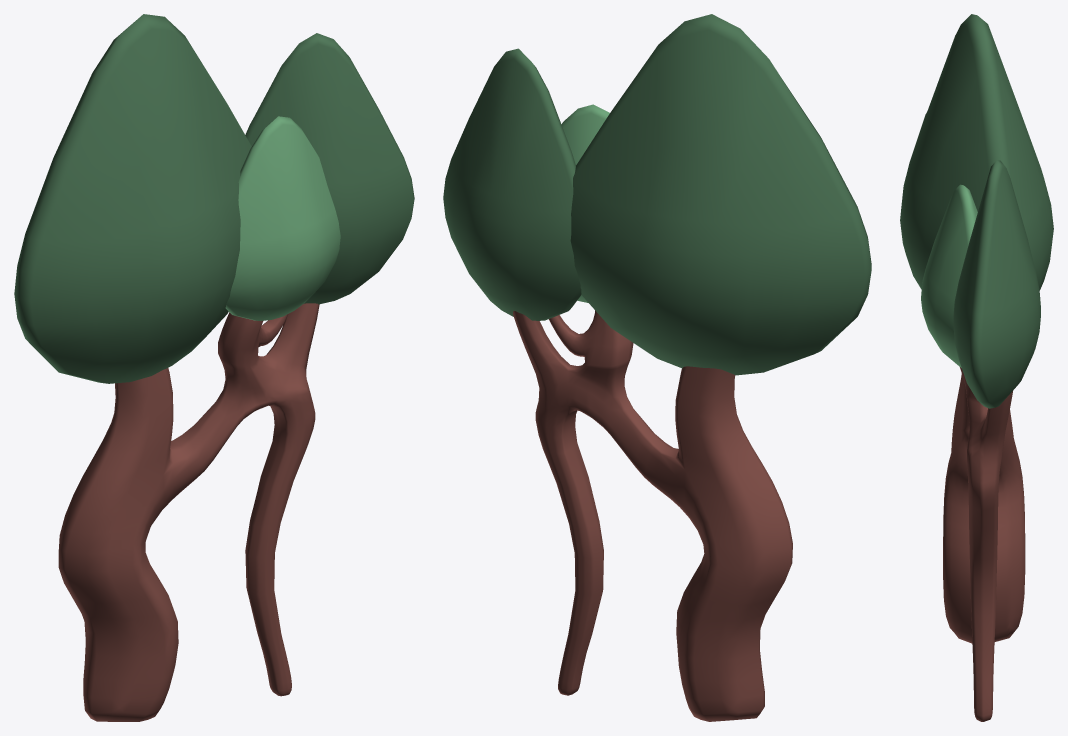
File: Small_Tree_1.fbx
3 views of the same model, side by side, from view 1: azimuth 30°, elevation 25°; view 2: azimuth 150°, elevation 25°; view 3: azimuth 270°, elevation 25° (orthographic). The views are drawn at different scales.
Parts seen in each view (by area): view 1: Detailed_Trunk_3; view 2: Detailed_Trunk_3; view 3: Detailed_Trunk_3.
Boxes of the visible parts, bbox=[...] form: Detailed_Trunk_3: bbox=[14, 14, 414, 721]; Detailed_Trunk_3: bbox=[443, 14, 871, 721]; Detailed_Trunk_3: bbox=[900, 14, 1053, 721].
Size of the model in its own units: 16.47 by 27.39 by 5.94.
